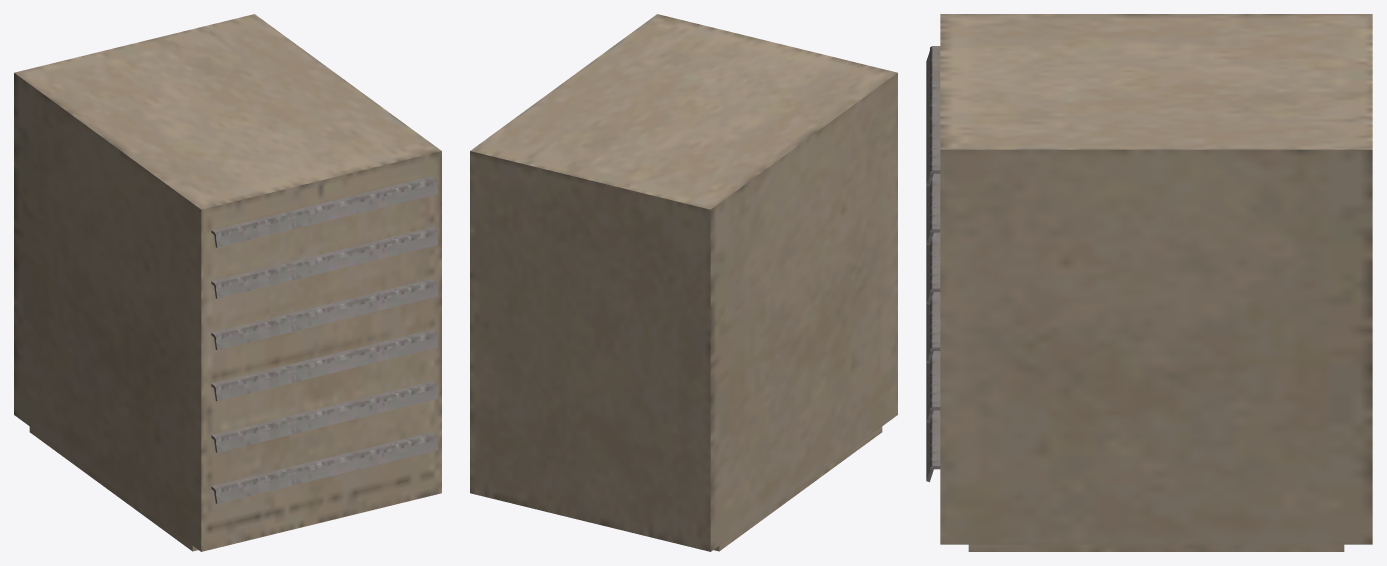
File: 067_FileCabinet.fbx
3 renders of one model, left to right at view 1: azimuth 30°, elevation 25°; view 2: azimuth 150°, elevation 25°; view 3: azimuth 270°, elevation 25°, orthographic. The views are drawn at different scales.
Parts seen in each view (by area): view 1: LOD_1_Group_0_Sub_1__sm30_067_FileCabinet01A_A_Mat; view 2: LOD_1_Group_0_Sub_1__sm30_067_FileCabinet01A_A_Mat; view 3: LOD_1_Group_0_Sub_1__sm30_067_FileCabinet01A_A_Mat.
Boxes of the visible parts, left/top/right/bottom form: LOD_1_Group_0_Sub_1__sm30_067_FileCabinet01A_A_Mat: left=14, top=14, right=441, bottom=551; LOD_1_Group_0_Sub_1__sm30_067_FileCabinet01A_A_Mat: left=470, top=14, right=897, bottom=551; LOD_1_Group_0_Sub_1__sm30_067_FileCabinet01A_A_Mat: left=926, top=14, right=1372, bottom=551.
Size of the model in its own units: 0.3647 by 0.5092 by 0.5074.
